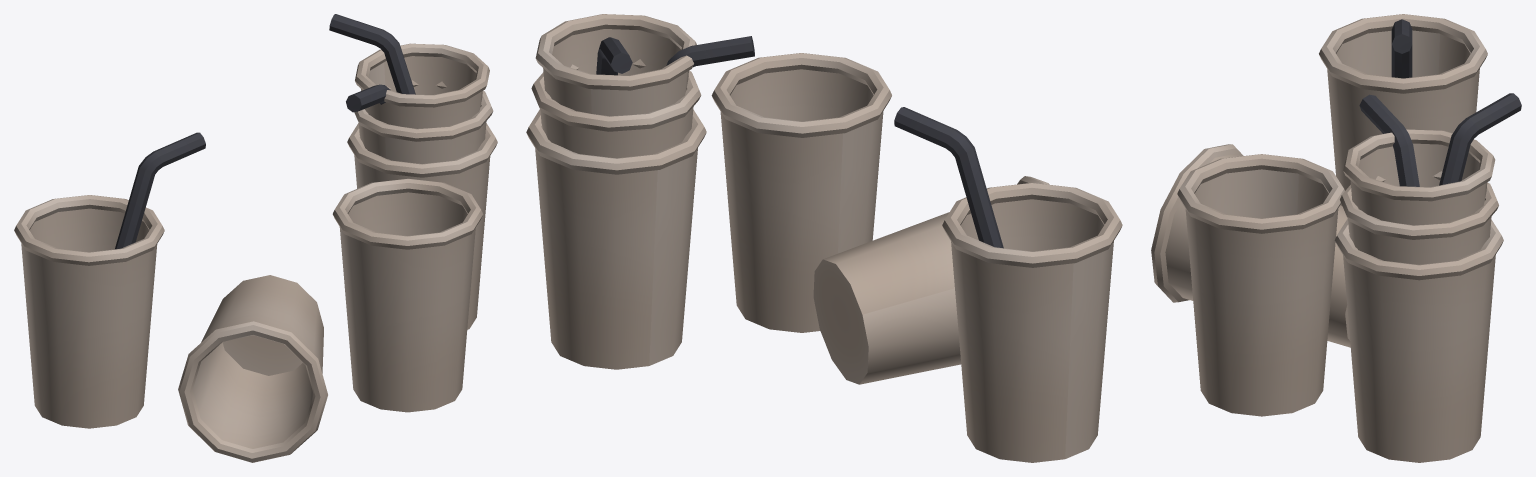
The model's file is Cup.fbx.
3 renders of one model, left to right at view 1: azimuth 30°, elevation 25°; view 2: azimuth 150°, elevation 25°; view 3: azimuth 270°, elevation 25°, orthographic. The views are drawn at different scales.
Visible parts, largest first — view 1: TrashBox_Cup; view 2: TrashBox_Cup; view 3: TrashBox_Cup.
Part boxes in pixels (box(x1,y1,x2,y2)): TrashBox_Cup: box(14, 14, 497, 462); TrashBox_Cup: box(526, 14, 1122, 462); TrashBox_Cup: box(1151, 14, 1521, 462).
Bounding box in the file's own units: 75.15 × 44.41 × 45.64.
